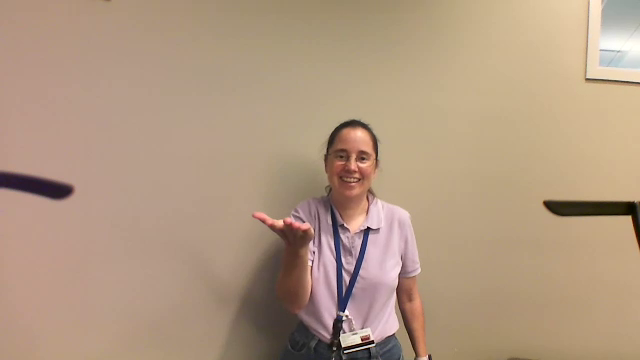land: (245, 207, 323, 254)
